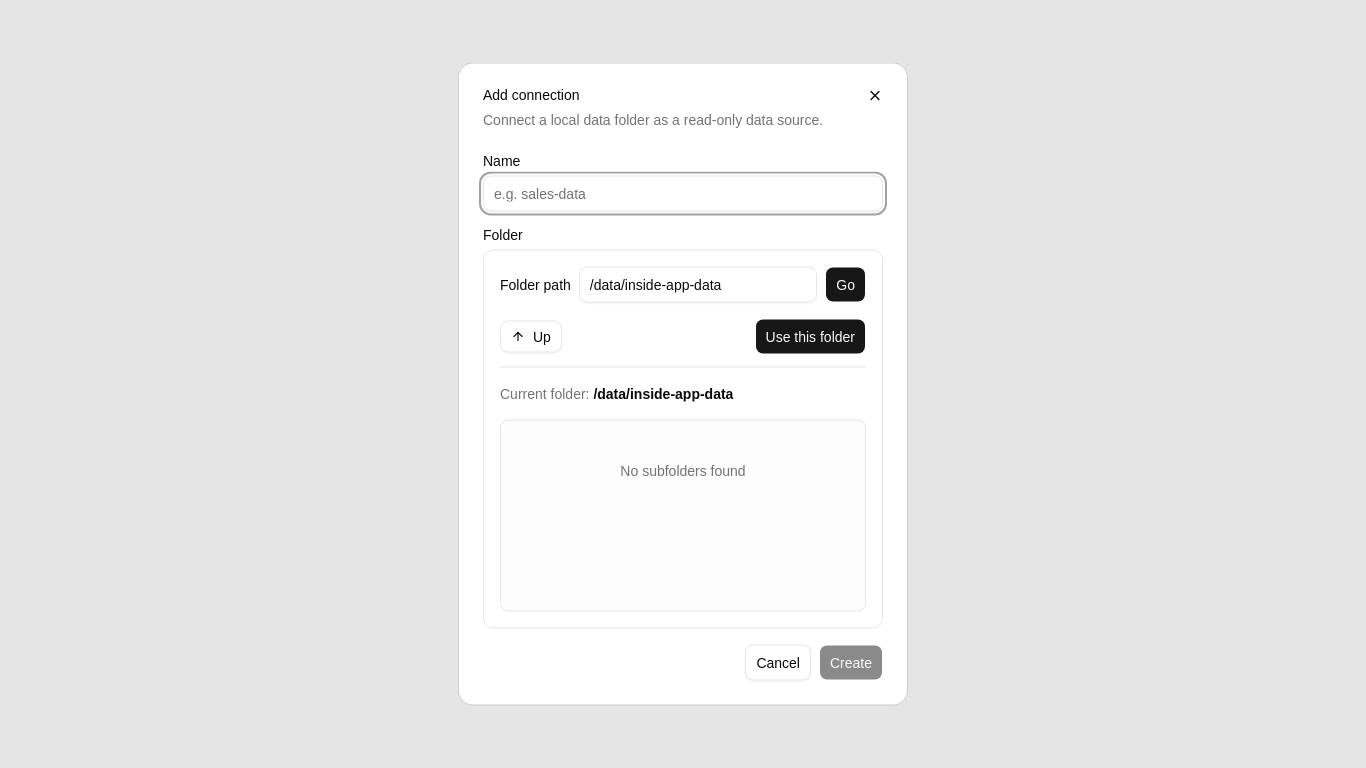
it: ConnectionDialog › shows inspect refusal in an alert and keeps Create disabled
The width and height of the screenshot is (1366, 768).
Type "bad-folder" into the field labelled "Name" at {"x": 683, "y": 194}, box [483,176,883,212]
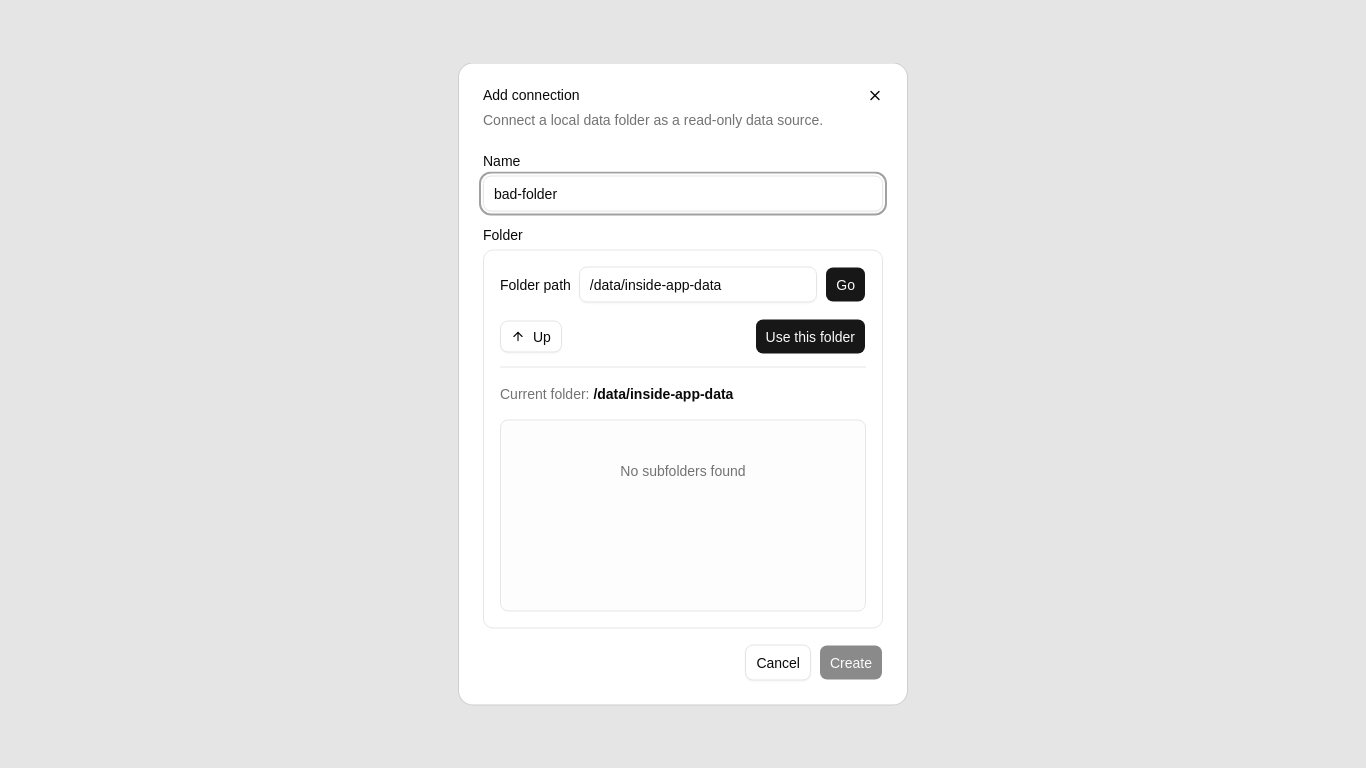
Click the button "Use this folder" at {"x": 810, "y": 336}, box [754,318,866,354]
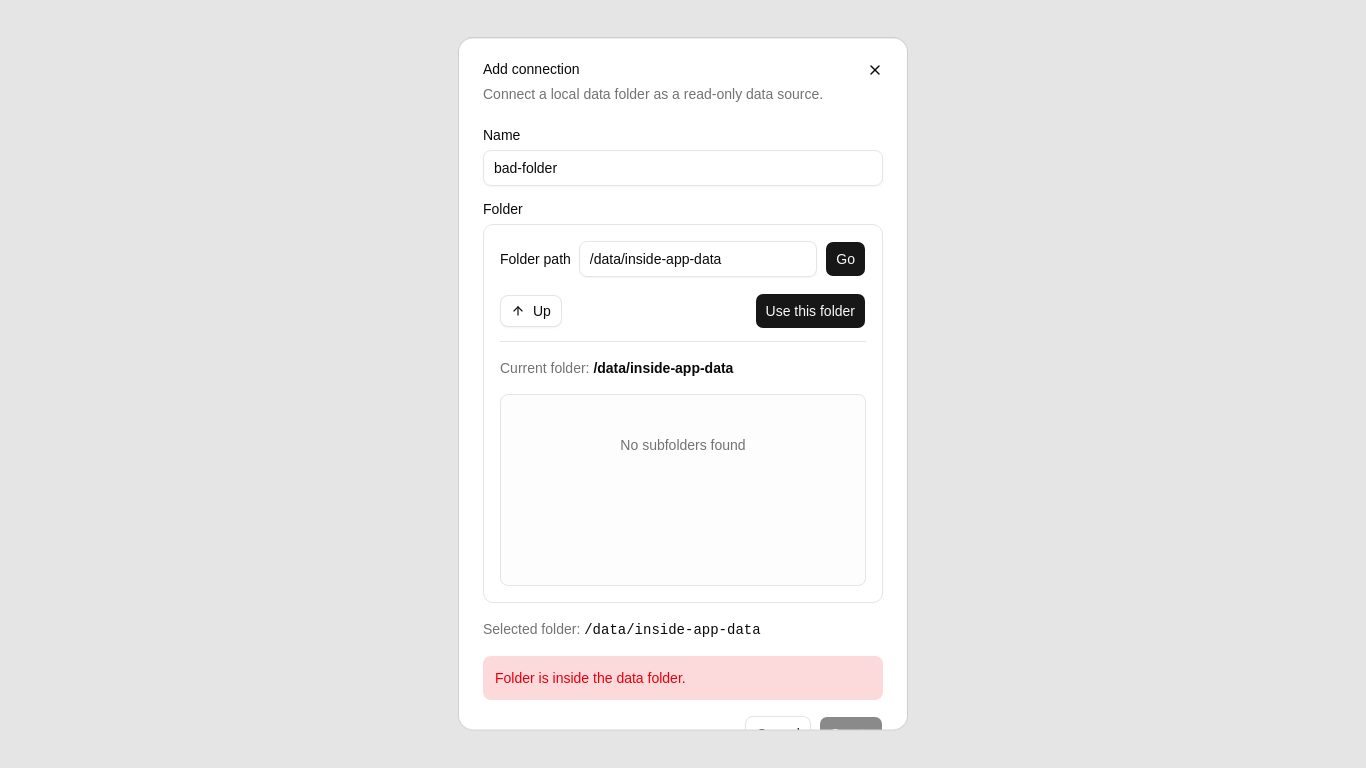
Check: the message reads "Folder is inside the data folder.", box [495,670,686,686]
